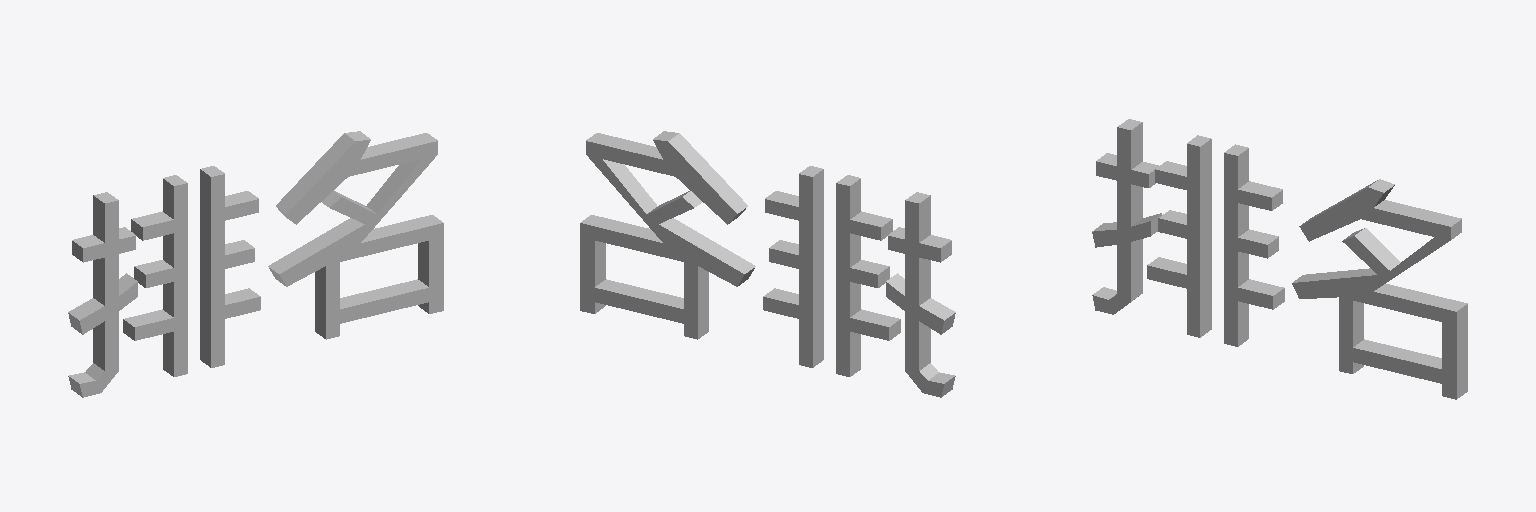
The picture shows the model from 3 angles: view 1: azimuth 30°, elevation 25°; view 2: azimuth 150°, elevation 25°; view 3: azimuth 330°, elevation 25°; orthographic projection.
Parts seen in each view (by area): view 1: Cap_1, Extrude; view 2: Cap_2, Extrude; view 3: Cap_1, Extrude.
Boxes of the visible parts, <box> form: Cap_1: <box>80,140,443,397</box>; Extrude: <box>68,131,442,397</box>; Cap_2: <box>580,140,943,397</box>; Extrude: <box>581,131,955,397</box>; Cap_1: <box>1092,127,1456,399</box>; Extrude: <box>1092,119,1467,398</box>.
Bounding box in the file's own units: 36.95 × 18.56 × 2.